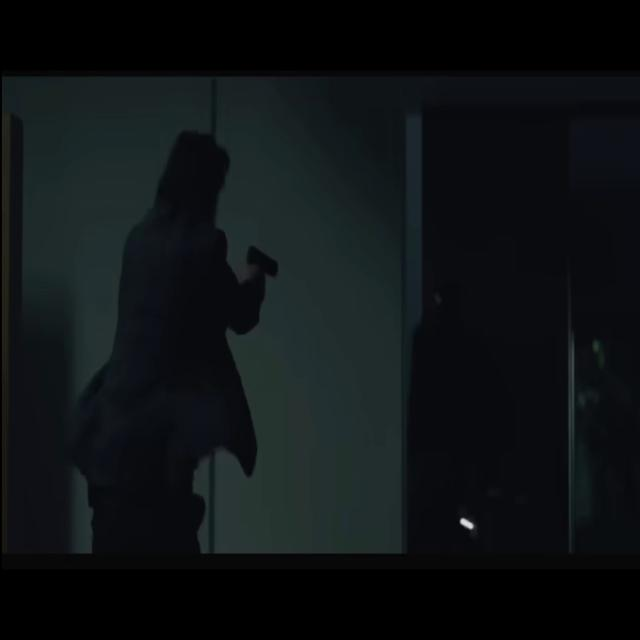weapons: (237, 221, 285, 308)
